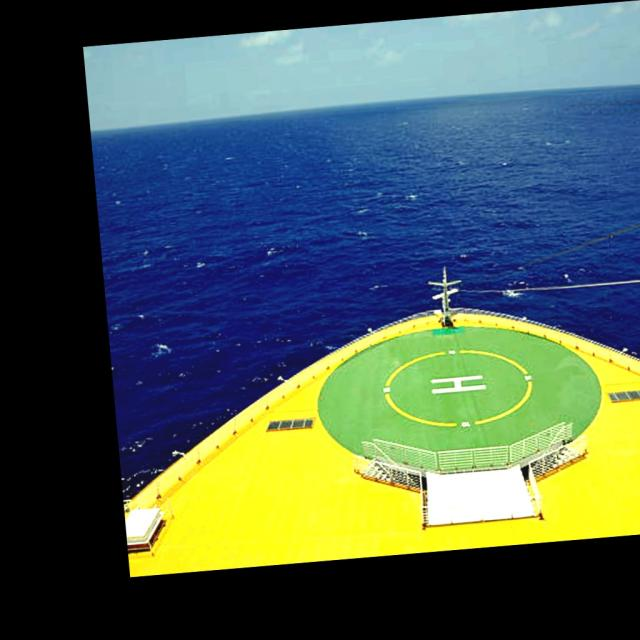helipad: (378, 340, 538, 436)
